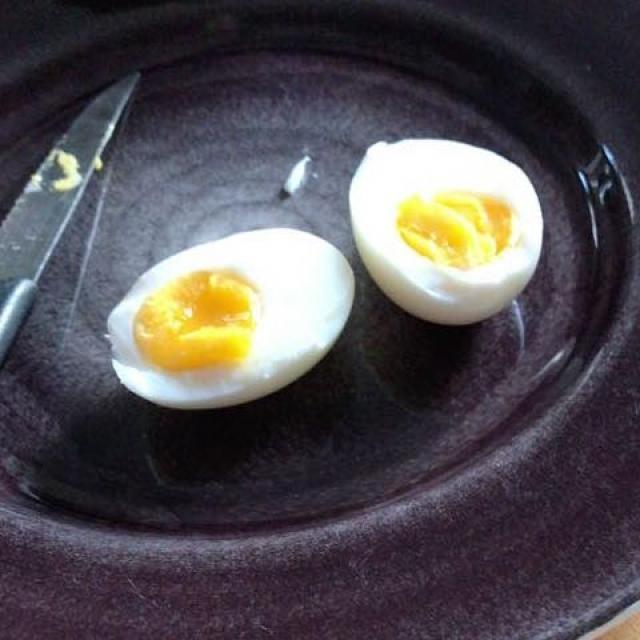egg: (118, 128, 566, 414)
